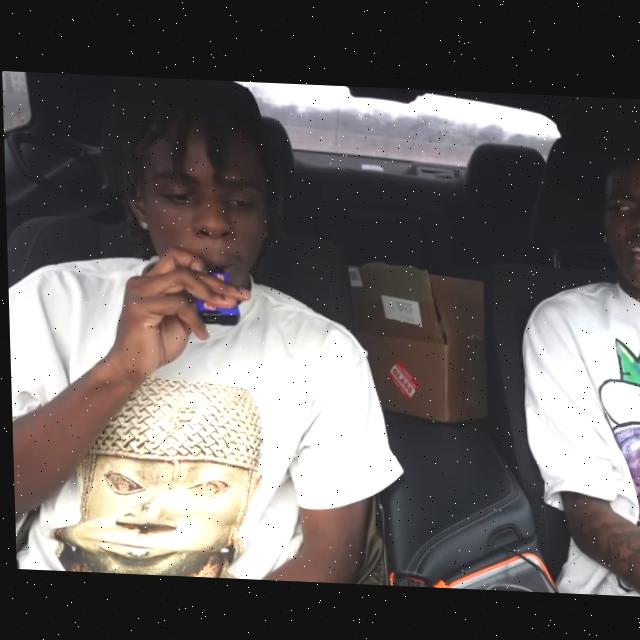vape: (193, 262, 240, 325)
